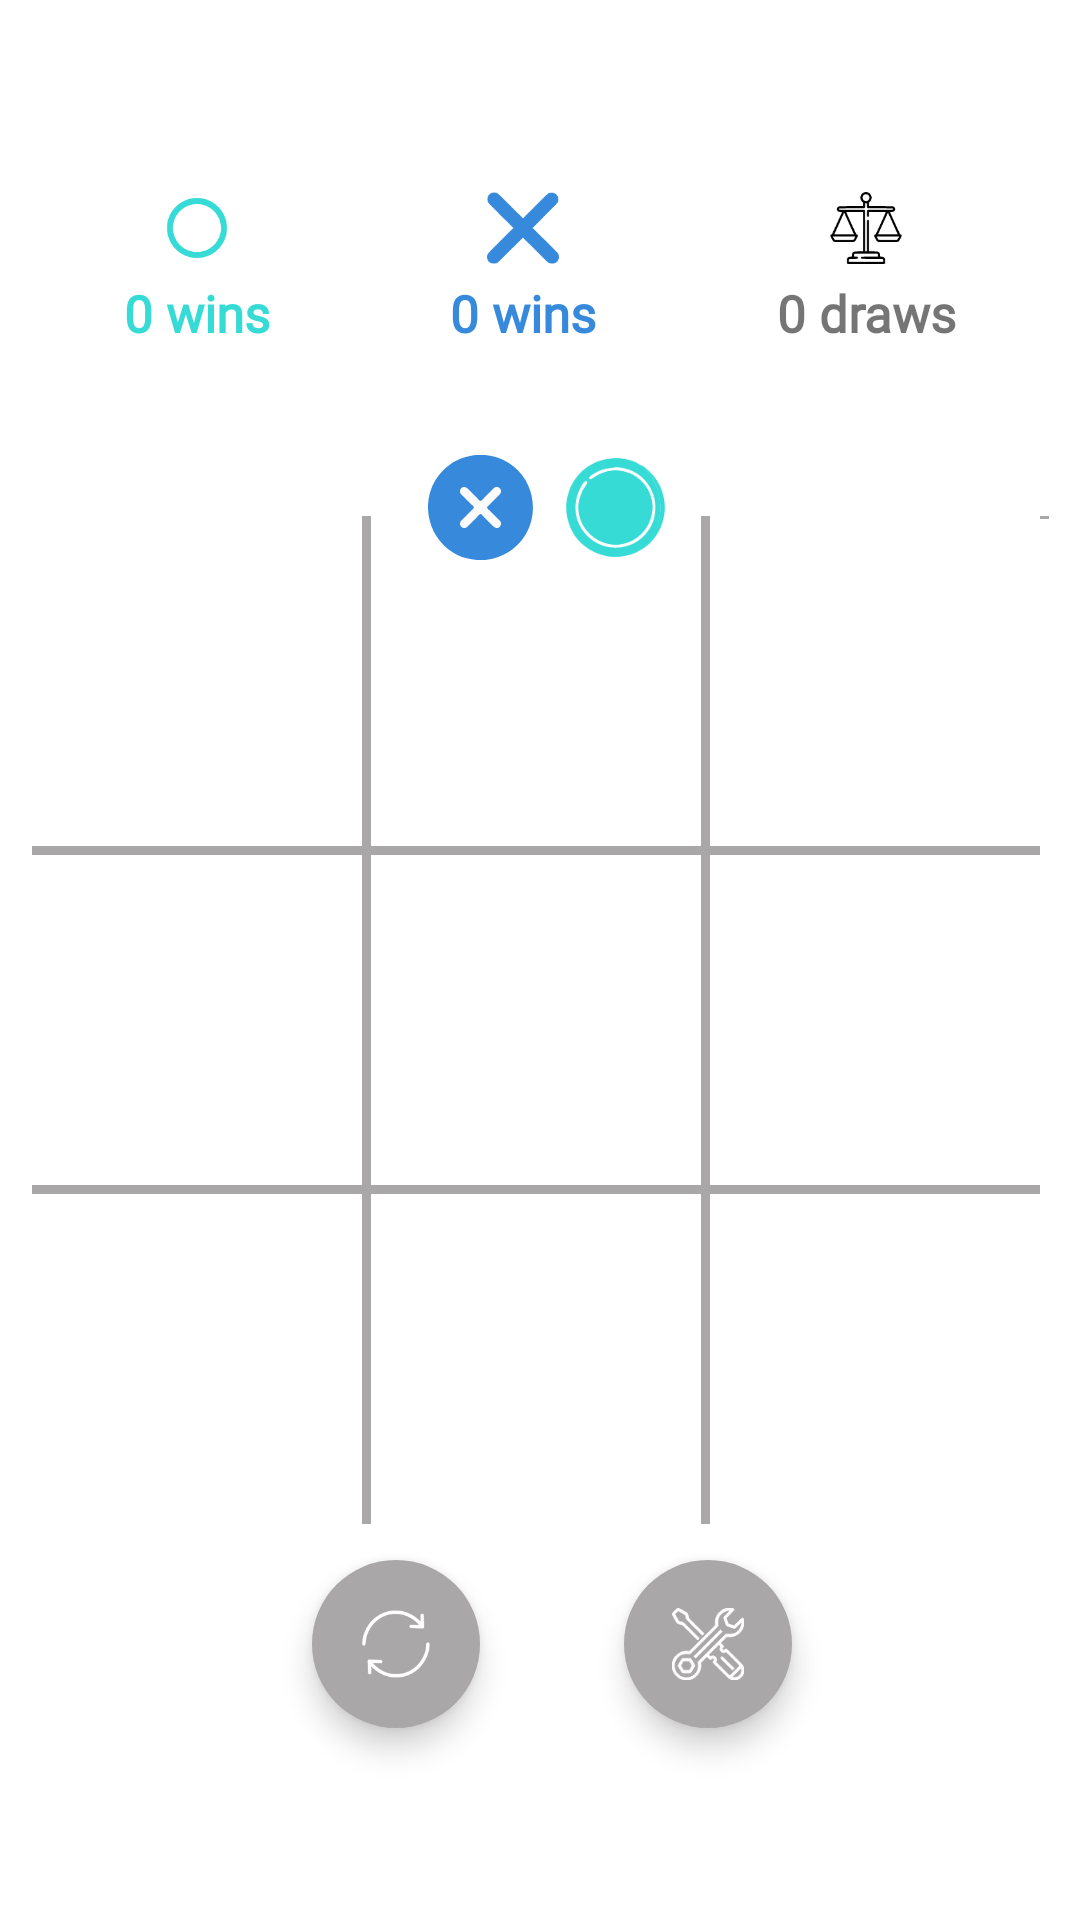

Named icons in this screenshot (1080px x 1920px) and their bounding boxes, {"left": x1, "top": y1, "right": x2, "bottom": y2}:
remove: {"left": 428, "top": 455, "right": 533, "bottom": 560}
restart: {"left": 312, "top": 1560, "right": 480, "bottom": 1728}
settings: {"left": 624, "top": 1560, "right": 792, "bottom": 1728}
